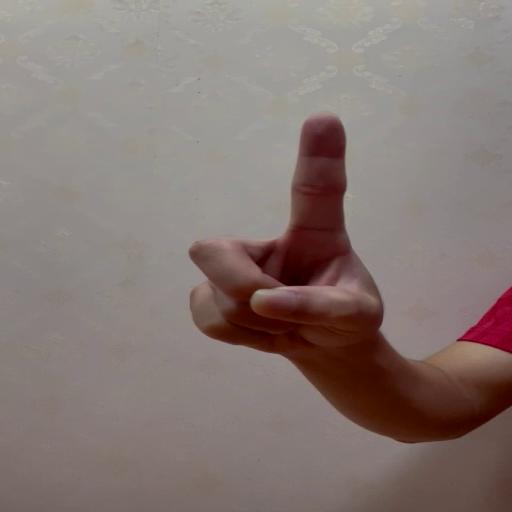point: (185, 111, 363, 351)
